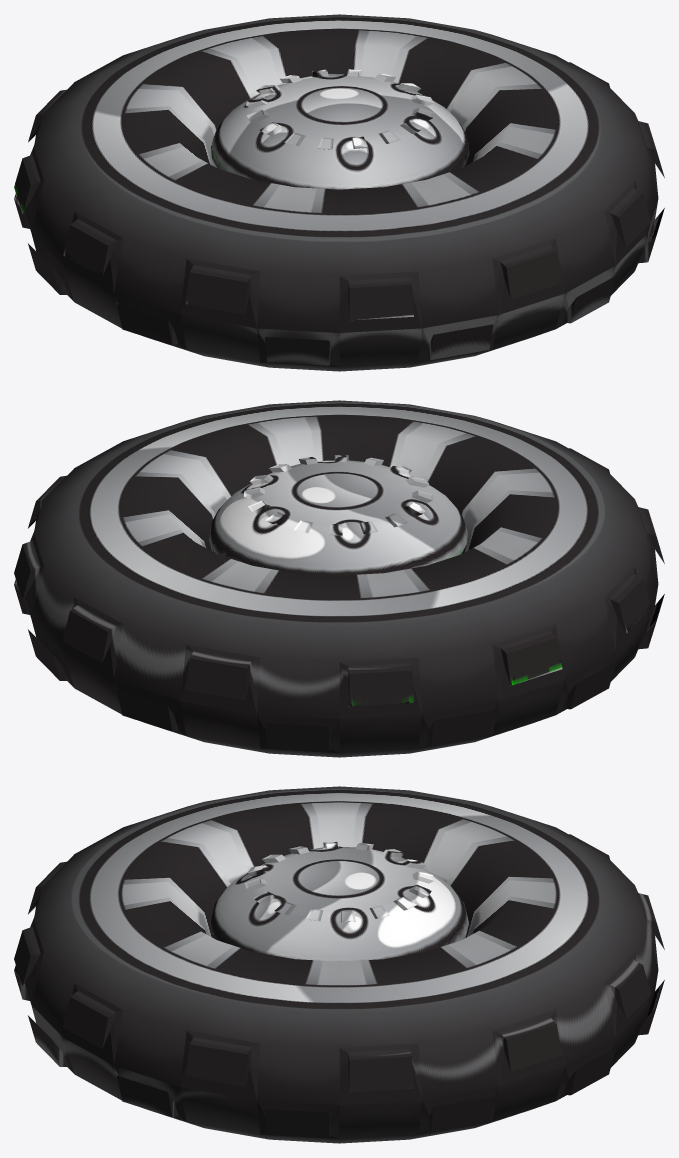
The model's file is Tire.fbx.
3 views of the same model, one above another, from view 1: azimuth 30°, elevation 25°; view 2: azimuth 150°, elevation 25°; view 3: azimuth 270°, elevation 25° (orthographic).
Parts seen in each view (by area): view 1: Tire; view 2: Tire; view 3: Tire.
Boxes of the visible parts, x1,y1,x2,y2 form: Tire: [14, 14, 664, 371]; Tire: [14, 400, 664, 757]; Tire: [14, 786, 664, 1143].
Size of the model in its own units: 57.63 by 17.49 by 57.63.
1 material, 1 textured.
